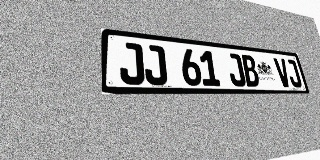1: (198, 50, 220, 86)
6: (179, 48, 203, 86)
B: (240, 54, 261, 87)
J: (119, 42, 145, 85), (143, 44, 168, 85), (225, 53, 247, 87), (285, 59, 303, 87)
V: (273, 58, 292, 87)
